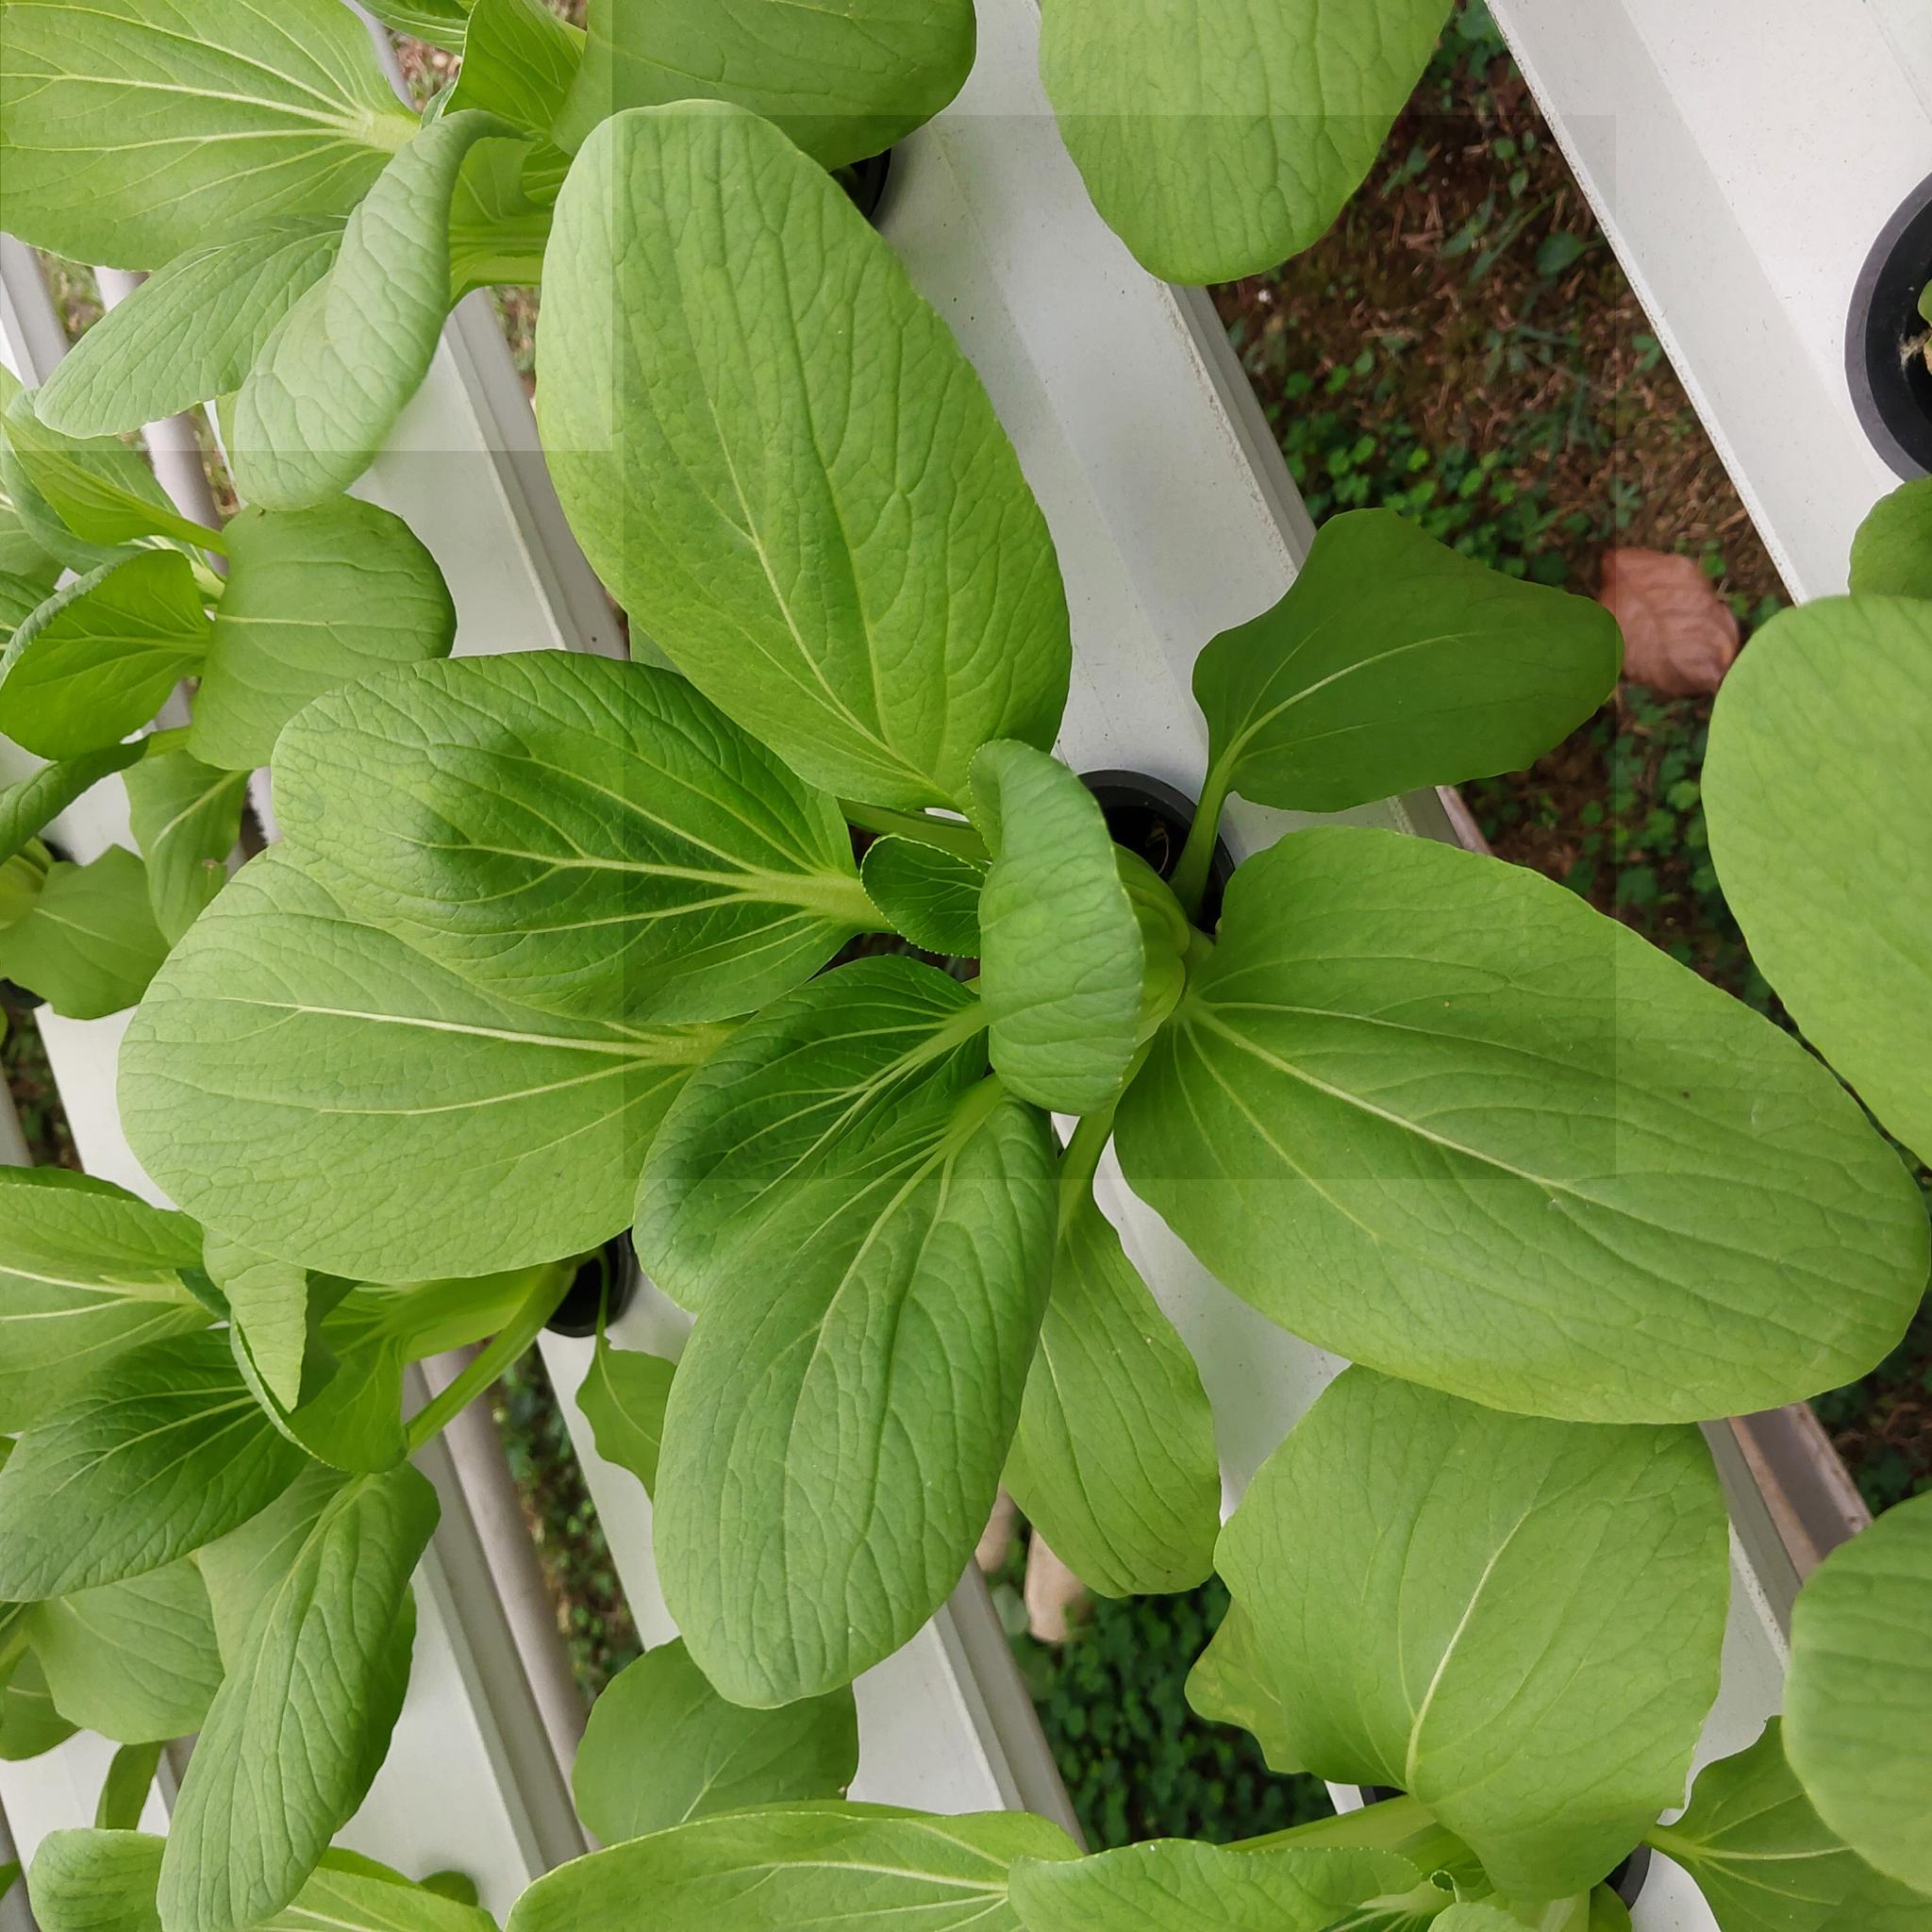Healthy-Pechay: (1092, 862, 1928, 1399), (543, 99, 993, 846), (159, 662, 932, 1081), (1187, 1352, 1737, 1913), (117, 908, 741, 1286), (644, 1051, 1000, 1714), (1173, 508, 1631, 927), (152, 1445, 442, 1932), (2, 0, 478, 280), (1704, 582, 1932, 1164), (221, 110, 525, 520), (2, 1311, 329, 1619), (173, 497, 467, 780), (19, 221, 347, 451), (563, 4, 975, 180), (2, 1175, 239, 1444), (0, 338, 223, 605), (490, 1806, 980, 1927), (568, 1644, 847, 1842), (2, 552, 219, 771), (7, 1545, 232, 1750), (1044, 1824, 1426, 1932), (0, 826, 191, 1016), (120, 743, 251, 950), (0, 740, 143, 922), (573, 1299, 676, 1511), (232, 1005, 672, 1047), (0, 1629, 88, 1764)
